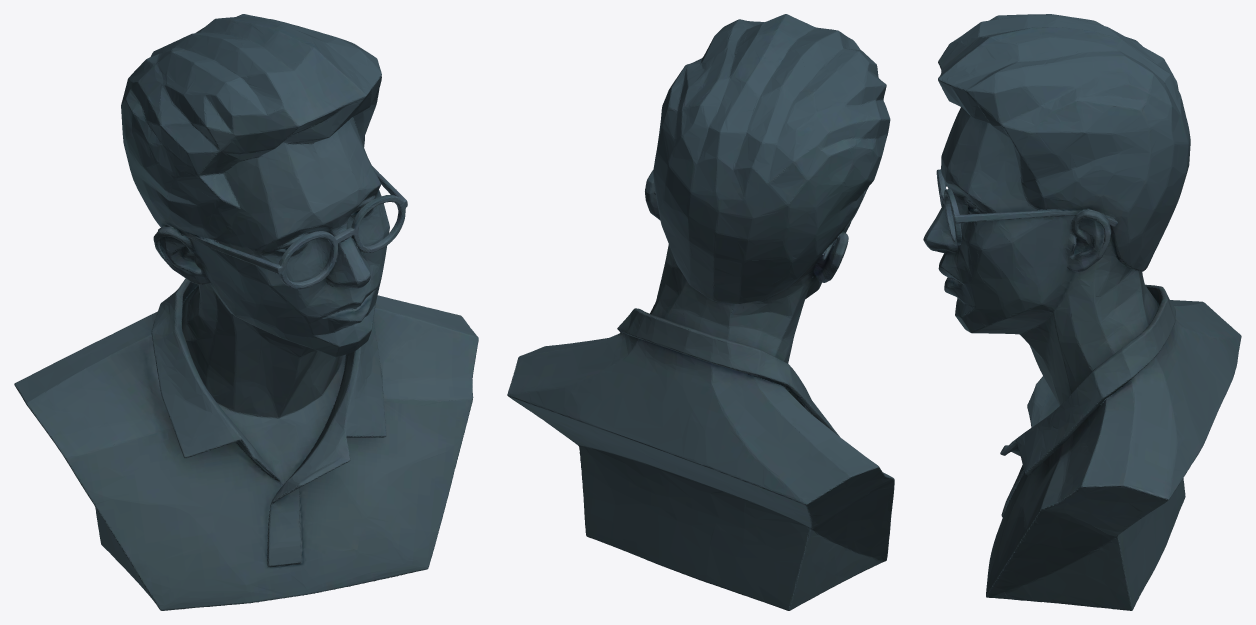
File: abelrahman_avatar.glb
3 views of the same model, side by side, from view 1: azimuth 30°, elevation 25°; view 2: azimuth 150°, elevation 25°; view 3: azimuth 270°, elevation 25° (orthographic). The views are drawn at different scales.
Size of the model in its own units: 1.57 by 2 by 1.12.
Materials: 1 (1 with a texture image).
